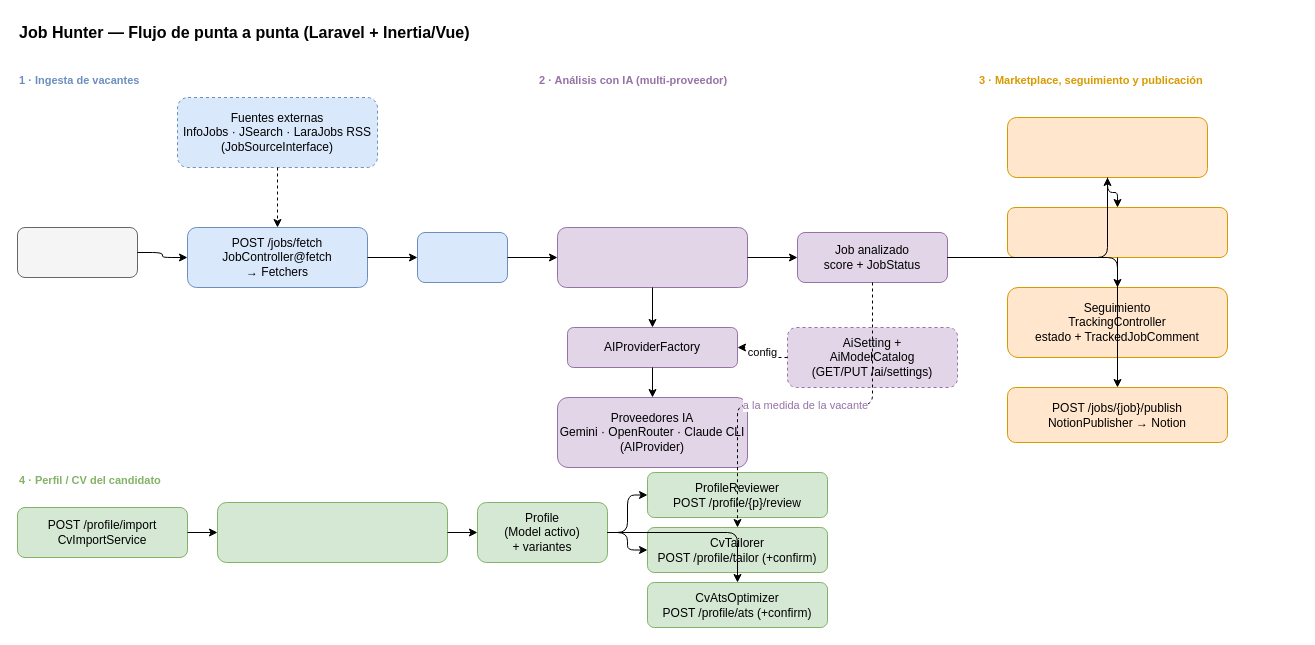
This 1315x645 diagram has some shape labels left out. Each missing label, with the box of its shape:
GET /marketplace analyze-pending · track-bulk (MarketplaceController): (1006, 116, 1208, 178)
Job (Model): (416, 232, 508, 282)
POST /jobs/{job}/analyze JobAnalyzer: (556, 226, 748, 288)
POST /marketplace/{job}/track → TrackedJob (Model): (1006, 206, 1228, 258)
ResumeTextExtractor → CvParser → ProfileBuilder (+ EnglishLevelDetector): (216, 502, 448, 562)
Usuario (Inertia/Vue): (16, 226, 138, 278)
